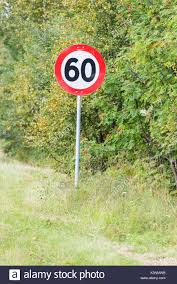Speed_limit_60km: (54, 43, 107, 95)
